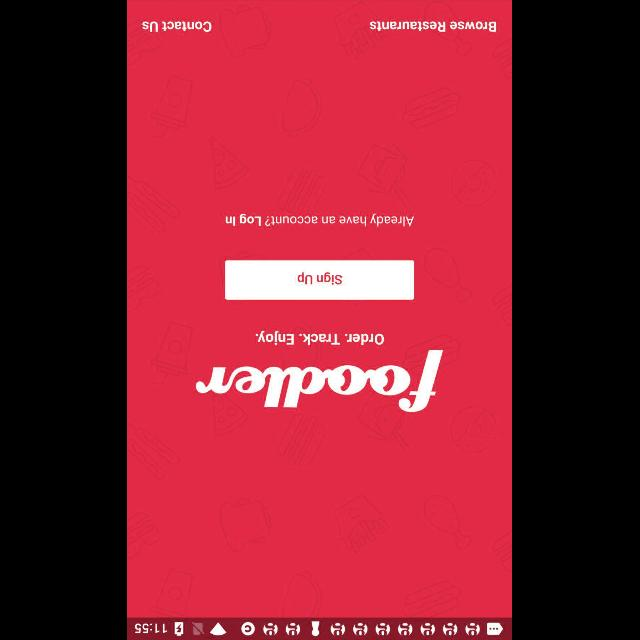image: (196, 350, 444, 412)
text: (226, 213, 414, 227), (250, 330, 384, 346), (370, 22, 498, 32), (142, 20, 212, 32)
textbutton: (226, 260, 414, 300)
uppertaskbar: (128, 617, 512, 639)
